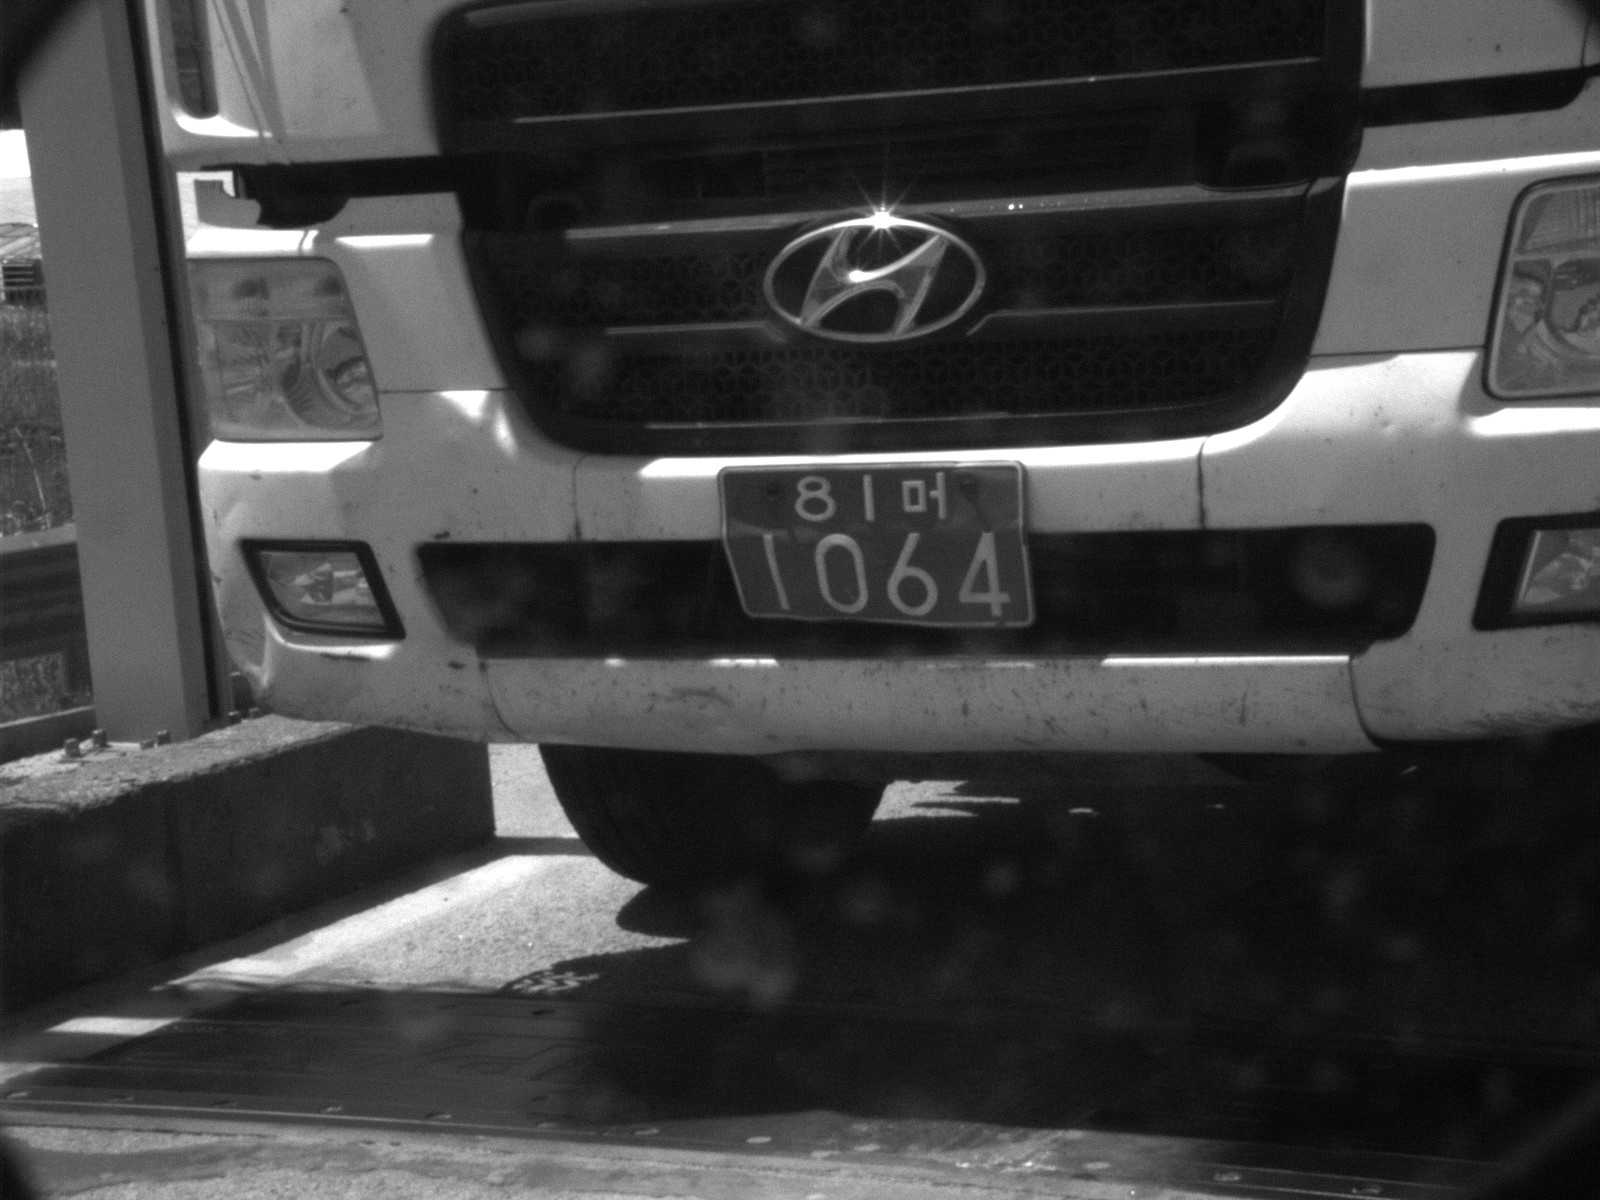car: (127, 1, 1595, 890)
plate: (717, 463, 1037, 632)
